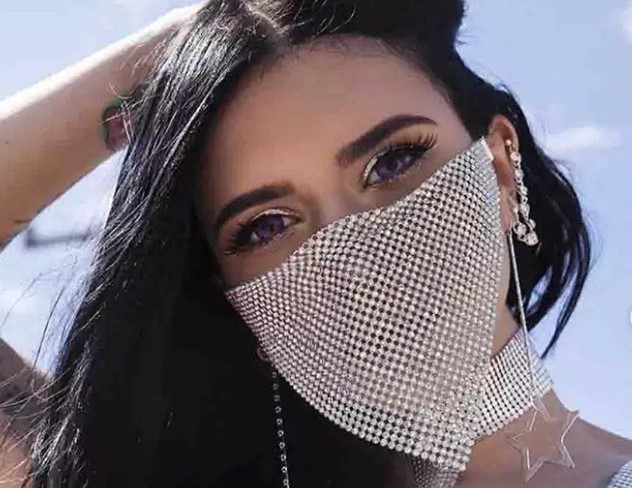face_with_mask: (178, 42, 522, 408)
